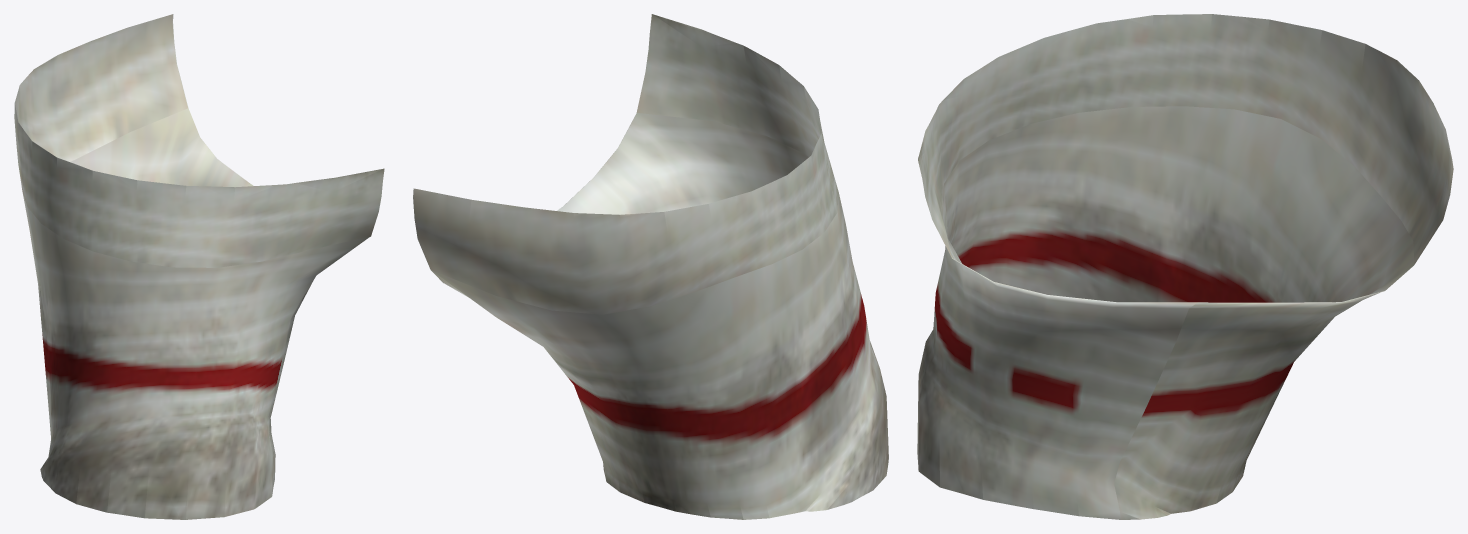
Rendered from Lleg.obj.
The picture shows the model from 3 angles, left to right: view 1: azimuth 30°, elevation 25°; view 2: azimuth 150°, elevation 25°; view 3: azimuth 270°, elevation 25°; orthographic projection. The views are drawn at different scales.
Parts seen in each view (by area): view 1: polySurface17 polySurface13 polySurface12 polySurface9 polySurfa; view 2: polySurface17 polySurface13 polySurface12 polySurface9 polySurfa; view 3: polySurface17 polySurface13 polySurface12 polySurface9 polySurfa.
Boxes of the visible parts, x1,y1,x2,y2 form: polySurface17 polySurface13 polySurface12 polySurface9 polySurfa: (14,14,384,519); polySurface17 polySurface13 polySurface12 polySurface9 polySurfa: (413,14,888,519); polySurface17 polySurface13 polySurface12 polySurface9 polySurfa: (917,14,1453,519).
Bounding box in the file's own units: 0.6188 × 0.6965 × 0.8642.
1 material, 1 textured.
